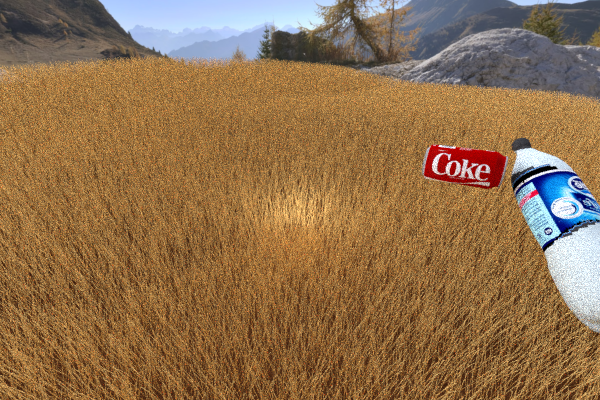bottle: (510, 136, 600, 332)
can: (135, 78, 171, 103), (213, 83, 252, 106)
